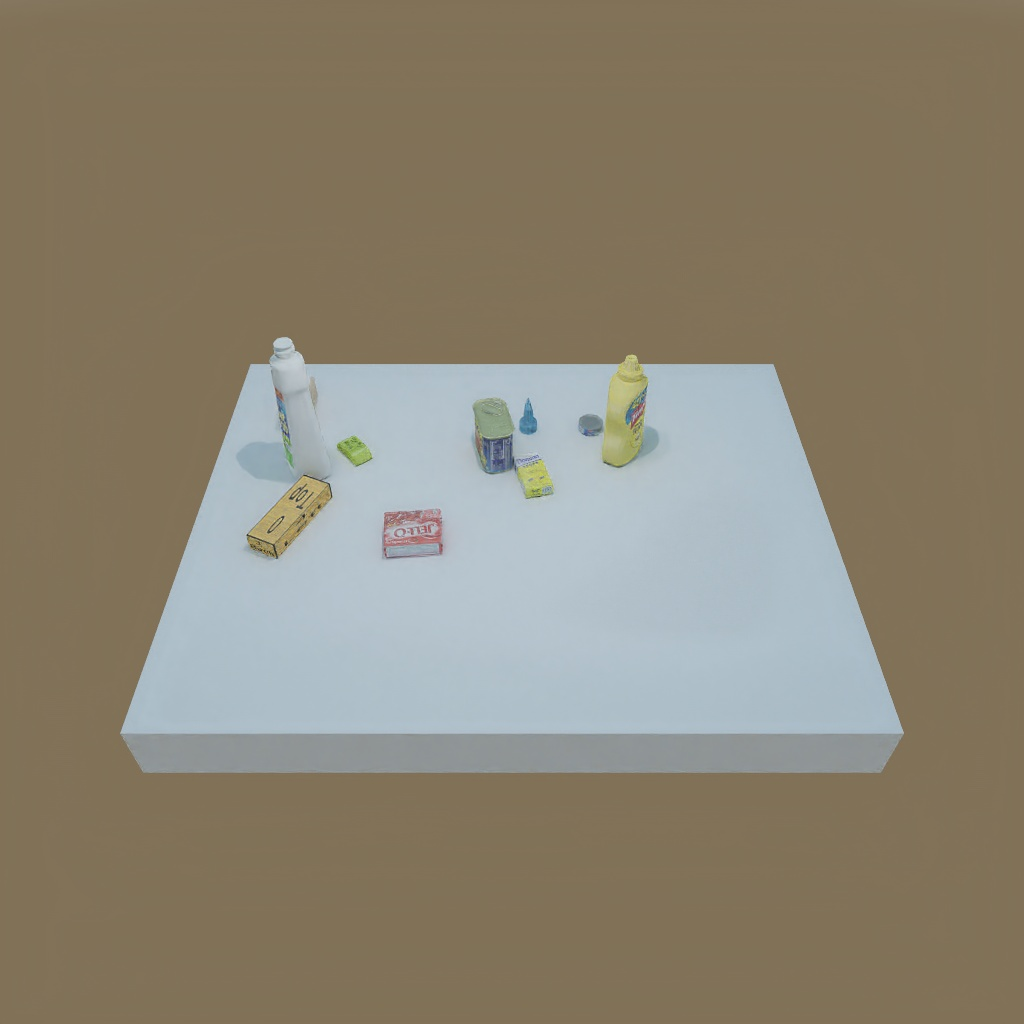gelatin_box: (378, 506, 448, 563)
jenga: (246, 473, 338, 557)
mustard_bottle: (602, 357, 650, 468)
potted_meat_can: (470, 393, 518, 475)
